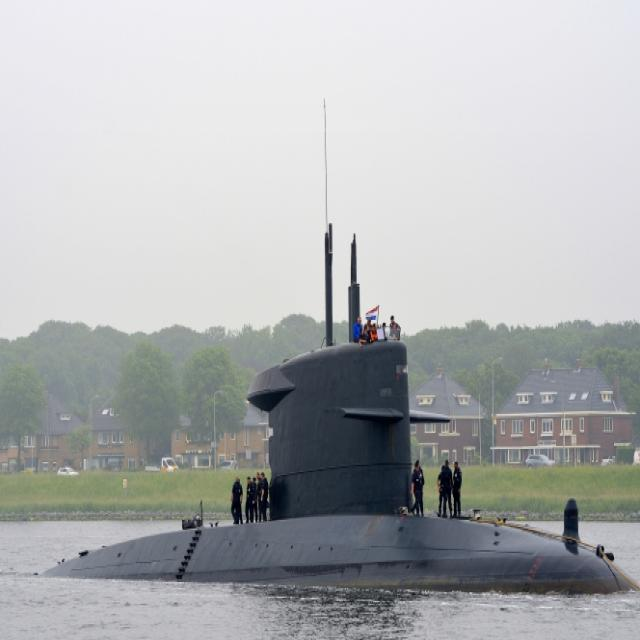submarine: (31, 211, 640, 602)
